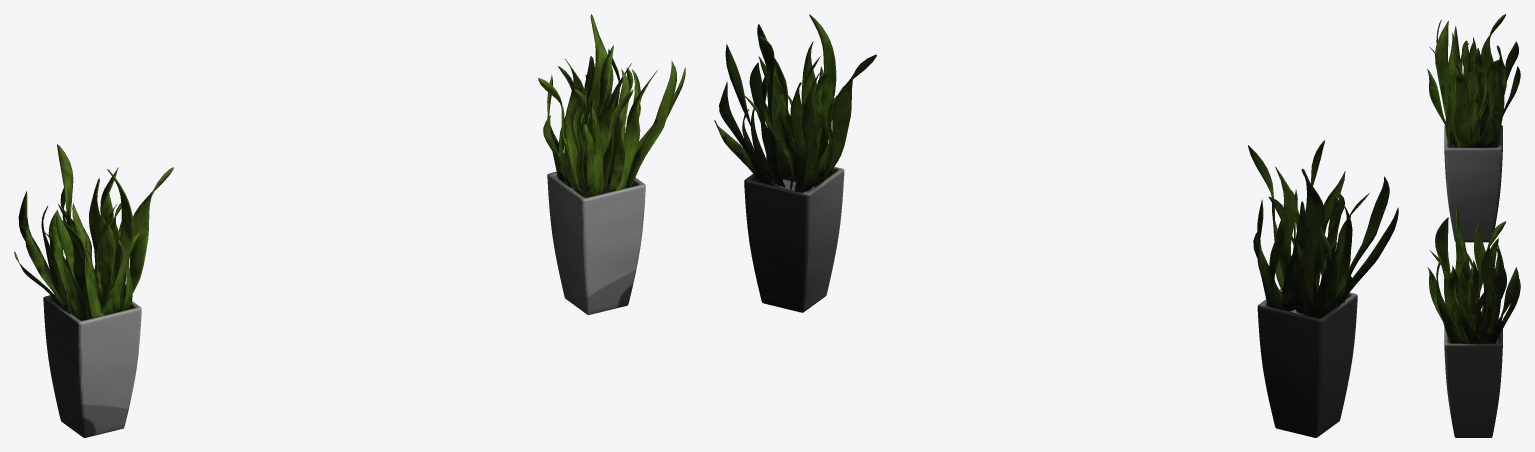
File: plants.obj
3 views of the same model, side by side, from view 1: azimuth 30°, elevation 25°; view 2: azimuth 150°, elevation 25°; view 3: azimuth 270°, elevation 25° (orthographic). The views are drawn at different scales.
Parts seen in each view (by area): view 1: (null).001, (null).003_(null).004, (null).002, (null); view 2: (null).003_(null).004, (null).001, (null).002, (null); view 3: (null).001, (null).003_(null).004, (null).002, (null).
Part boxes in pixels (x1,y1,x2,y2): (null).001: (14, 144, 173, 320); (null).003_(null).004: (538, 14, 685, 196); (null).002: (547, 172, 645, 314); (null): (43, 295, 141, 437); (null).003_(null).004: (714, 14, 876, 192); (null).001: (1248, 140, 1398, 318); (null).002: (744, 166, 844, 312); (null): (1257, 285, 1357, 437); (null).001: (1427, 14, 1520, 147); (null).003_(null).004: (1427, 205, 1520, 343); (null).002: (1444, 321, 1502, 437); (null): (1444, 125, 1502, 242).
Size of the model in its own units: 4.68 by 1.83 by 0.7222.
2 materials, 2 textured.
